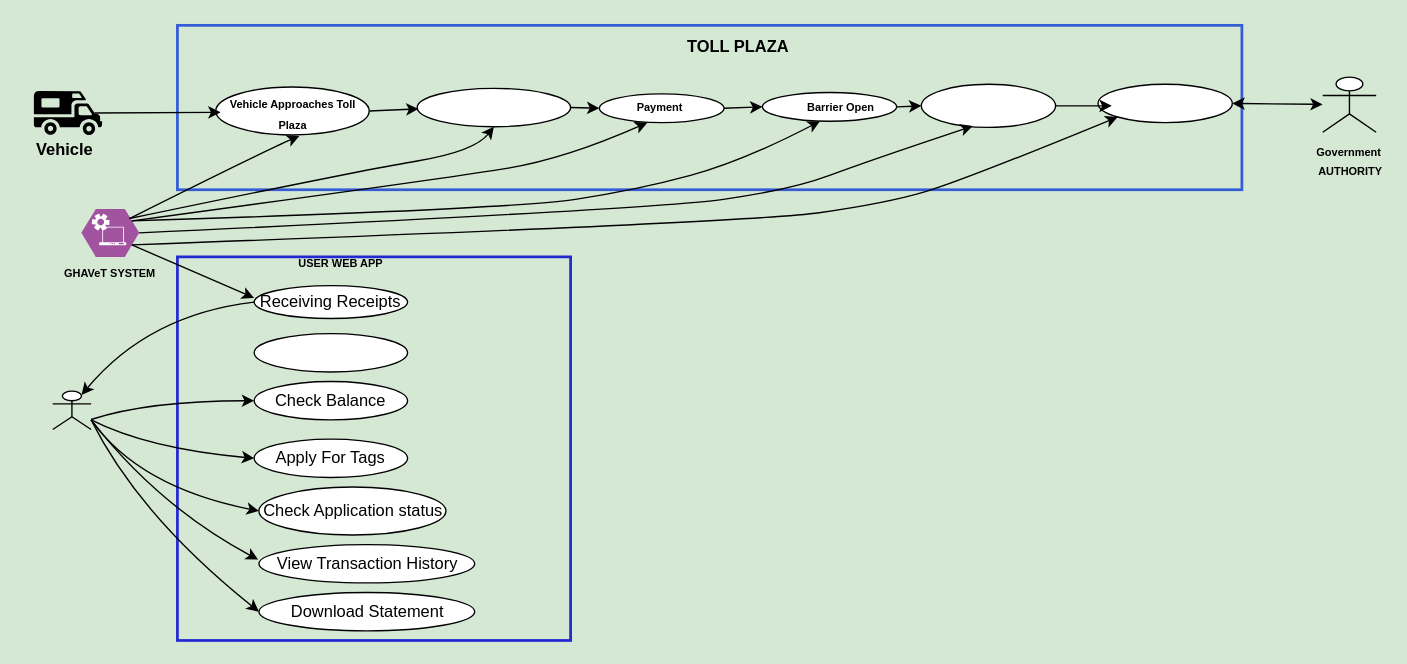
Image size: 1407x664. Some labels were removed from this diagram. Each missing label, with the box of its shape:
Automatic Toll Calculation: (416, 87, 571, 127)
Deposit Funds: (253, 332, 408, 372)
Post Passage Confirmation: (1097, 83, 1232, 123)
Transaction Recording: (920, 83, 1056, 127)
Vehicle User: (51, 390, 91, 429)
